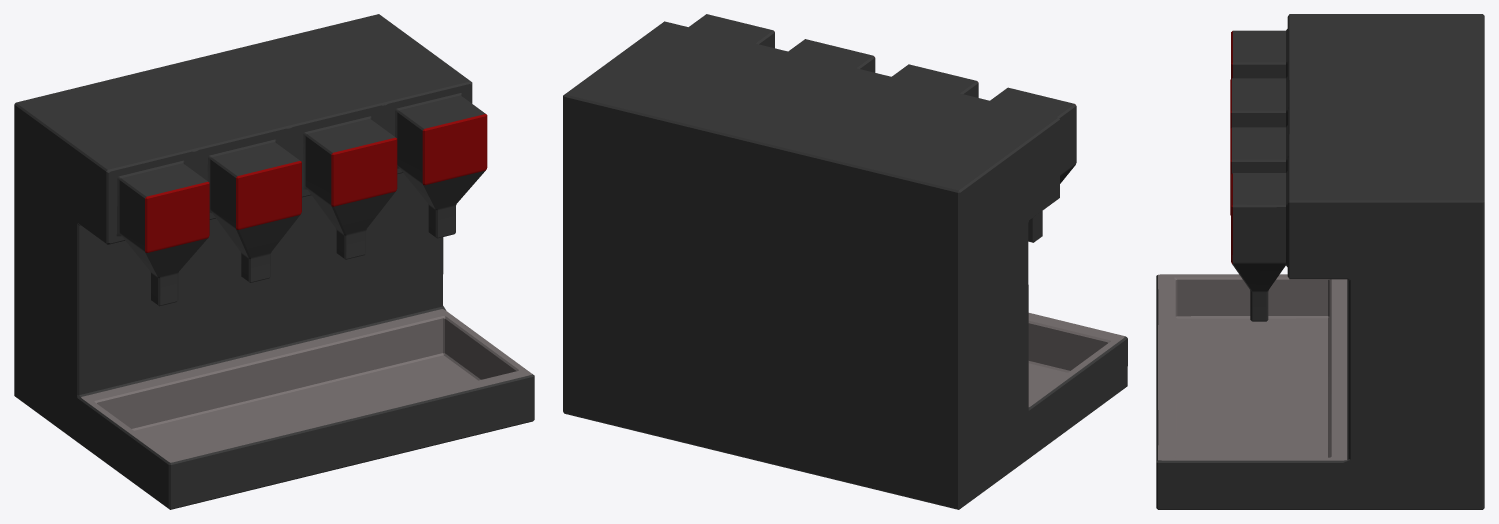
The model's file is Drink Stand.fbx.
3 views of the same model, side by side, from view 1: azimuth 30°, elevation 25°; view 2: azimuth 150°, elevation 25°; view 3: azimuth 270°, elevation 25° (orthographic). The views are drawn at different scales.
Parts seen in each view (by area): view 1: pCube1; view 2: pCube1; view 3: pCube1.
Boxes of the visible parts, bbox=[...] form: pCube1: bbox=[14, 14, 534, 509]; pCube1: bbox=[563, 14, 1127, 509]; pCube1: bbox=[1156, 14, 1484, 509].
Size of the model in its own units: 1.3 by 1 by 0.9612.
